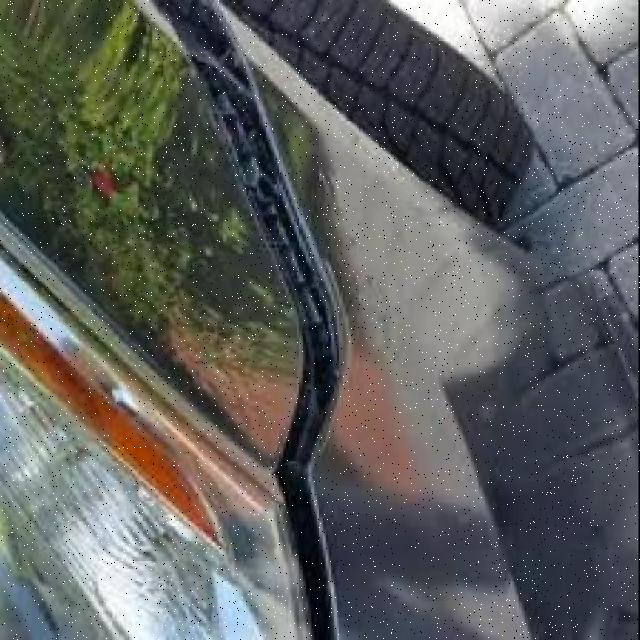damage: (138, 1, 352, 637)
